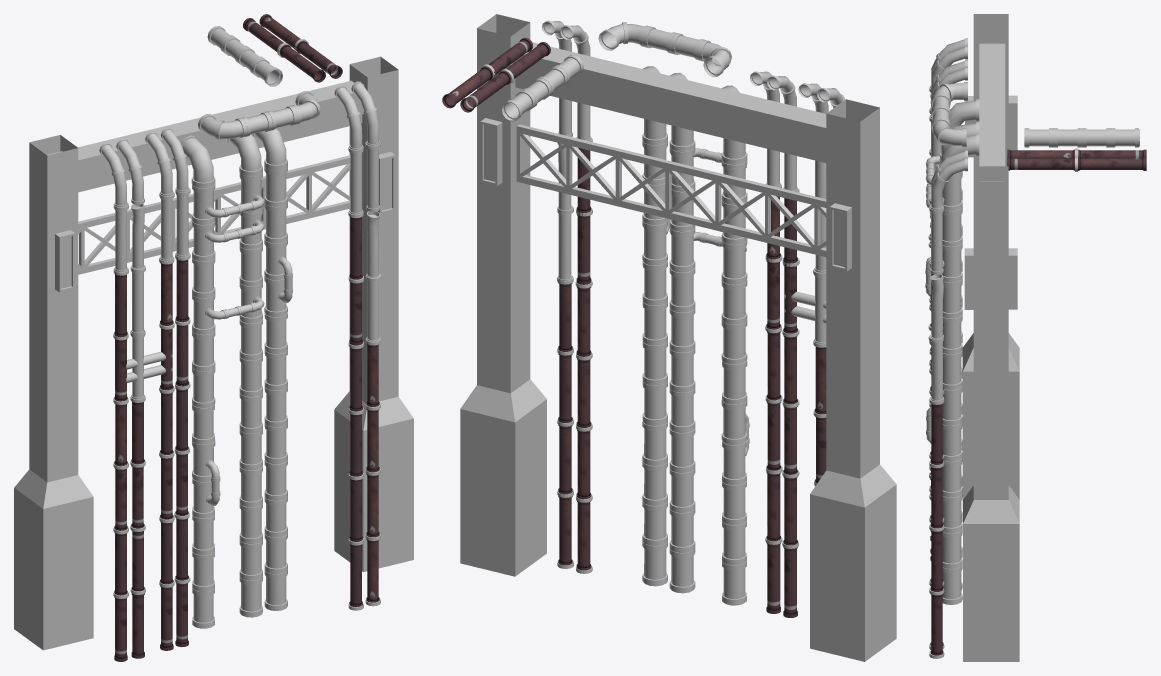
The model's file is Lower_Structure_Elevator_Area.fbx.
3 renders of one model, left to right at view 1: azimuth 30°, elevation 25°; view 2: azimuth 150°, elevation 25°; view 3: azimuth 270°, elevation 25°, orthographic. The views are drawn at different scales.
Parts seen in each view (by area): view 1: Lower_Structure_Column_A001, Medium_Tube001, Small_Tube_001, Small_Tube_Curved001, Lower_Structure_Column_Top001, Lower_Structure_Cross_Beams001, Mediuml_Tube_Curved001, Small_Tube_Broken001, Small_Tube_Connectors_001, Big_Tube038, Big_Tube_Curved001; view 2: Lower_Structure_Column_A001, Medium_Tube001, Small_Tube_001, Lower_Structure_Column_Top001, Lower_Structure_Cross_Beams001, Small_Tube_Curved001, Small_Tube_Broken001, Big_Tube038, Small_Tube_Connectors_001, Big_Tube_Curved001; view 3: Lower_Structure_Column_A001, Medium_Tube001, Small_Tube_001, Small_Tube_Curved001, Lower_Structure_Column_Top001, Big_Tube038, Mediuml_Tube_Curved001, Small_Tube_Broken001, Big_Tube_Curved001, Small_Tube_Connectors_001.
Boxes of the visible parts, x1=… form: Lower_Structure_Column_A001: x1=14, y1=56, x2=413, y2=650; Medium_Tube001: x1=192, y1=166, x2=292, y2=628; Small_Tube_001: x1=114, y1=14, x2=379, y2=661; Small_Tube_Curved001: x1=99, y1=81, x2=379, y2=334; Lower_Structure_Column_Top001: x1=47, y1=80, x2=363, y2=192; Lower_Structure_Cross_Beams001: x1=78, y1=155, x2=350, y2=274; Mediuml_Tube_Curved001: x1=181, y1=128, x2=292, y2=505; Small_Tube_Broken001: x1=126, y1=203, x2=380, y2=399; Small_Tube_Connectors_001: x1=113, y1=39, x2=381, y2=610; Big_Tube038: x1=207, y1=26, x2=298, y2=136; Big_Tube_Curved001: x1=198, y1=91, x2=320, y2=140; Lower_Structure_Column_A001: x1=460, y1=14, x2=896, y2=661; Medium_Tube001: x1=642, y1=119, x2=749, y2=605; Small_Tube_001: x1=442, y1=37, x2=826, y2=617; Lower_Structure_Column_Top001: x1=512, y1=42, x2=826, y2=162; Lower_Structure_Cross_Beams001: x1=516, y1=124, x2=826, y2=256; Small_Tube_Curved001: x1=542, y1=20, x2=845, y2=272; Small_Tube_Broken001: x1=557, y1=143, x2=826, y2=343; Big_Tube038: x1=501, y1=26, x2=704, y2=121; Small_Tube_Connectors_001: x1=479, y1=64, x2=826, y2=573; Big_Tube_Curved001: x1=598, y1=22, x2=731, y2=77; Lower_Structure_Column_A001: x1=962, y1=14, x2=1019, y2=661; Medium_Tube001: x1=925, y1=145, x2=962, y2=604; Small_Tube_001: x1=930, y1=149, x2=1146, y2=655; Small_Tube_Curved001: x1=930, y1=38, x2=967, y2=274; Lower_Structure_Column_Top001: x1=979, y1=43, x2=1005, y2=181; Big_Tube038: x1=931, y1=93, x2=1139, y2=147; Mediuml_Tube_Curved001: x1=925, y1=99, x2=979, y2=443; Small_Tube_Broken001: x1=930, y1=100, x2=943, y2=401; Big_Tube_Curved001: x1=931, y1=82, x2=967, y2=147; Small_Tube_Connectors_001: x1=928, y1=86, x2=1078, y2=658.
Bounding box in the file's own units: 47.65 × 25.27 × 63.19.
